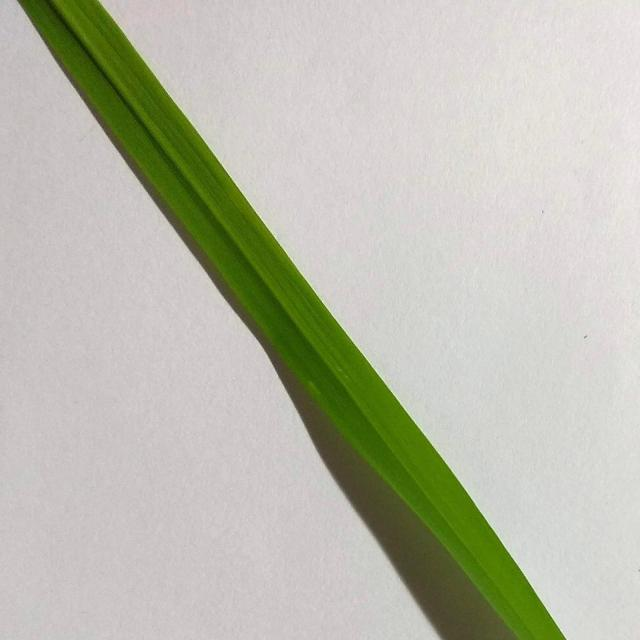healthy: (11, 0, 567, 640)
